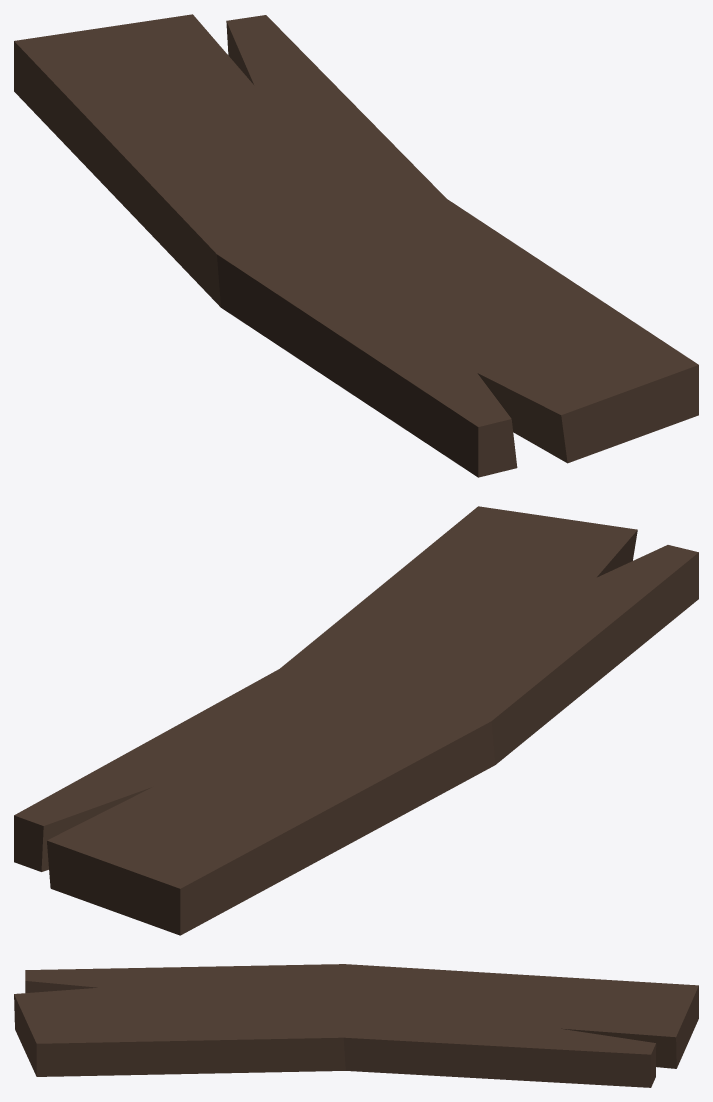
The model's file is plank_2.fbx.
The picture shows the model from 3 angles, top to bottom: view 1: azimuth 30°, elevation 25°; view 2: azimuth 150°, elevation 25°; view 3: azimuth 270°, elevation 25°; orthographic projection. The views are drawn at different scales.
Visible parts, largest first — view 1: plank_2; view 2: plank_2; view 3: plank_2.
Boxes of the visible parts, <box> form: plank_2: <box>14,14,698,477</box>; plank_2: <box>14,506,698,935</box>; plank_2: <box>14,964,698,1087</box>.
Bounding box in the file's own units: 44.25 × 7.56 × 141.
